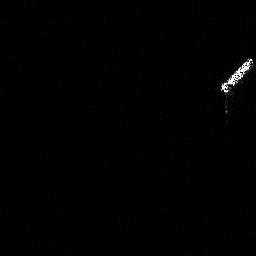ship: (217, 54, 253, 95)
